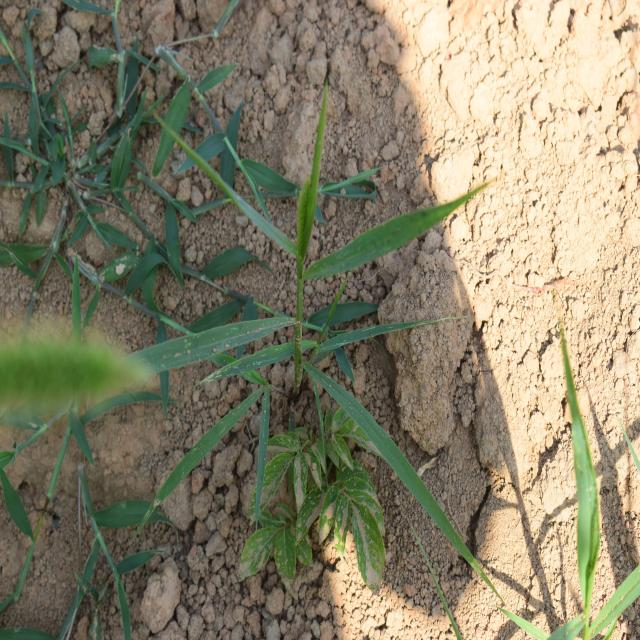green_foxtail: (195, 139, 417, 468)
